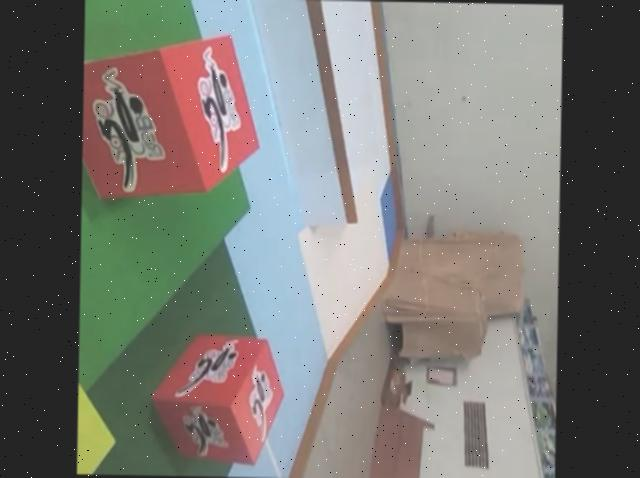R1: (82, 31, 262, 201), (152, 333, 287, 466)
